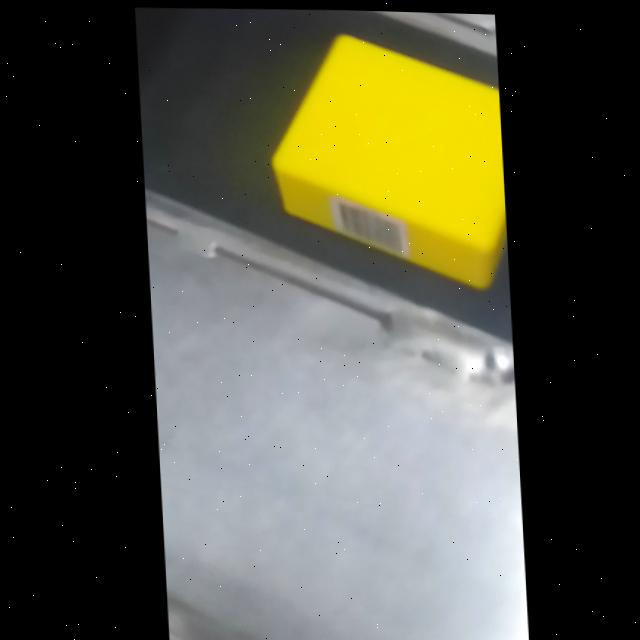yellowBox: (241, 18, 507, 301)
